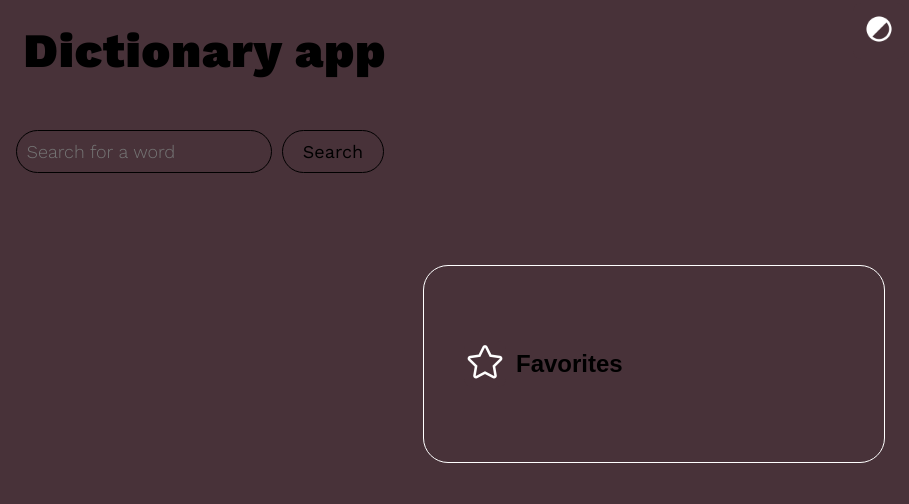
Test: searching for words functionality › should render error message if user tries to search with empty input field
The width and height of the screenshot is (909, 504).
Click the button "Search".
click(333, 152)  # box [282, 130, 384, 173]
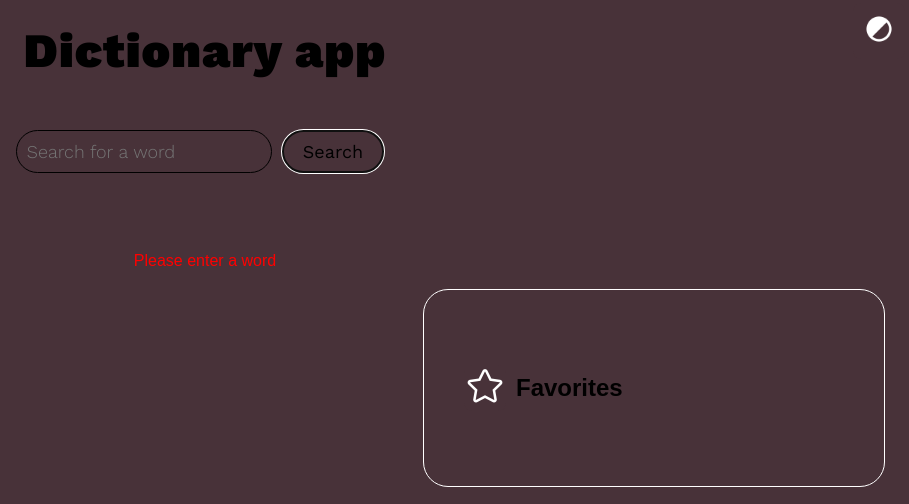
Expected: the text "Please enter a word" is shown, [134, 249, 276, 273]
